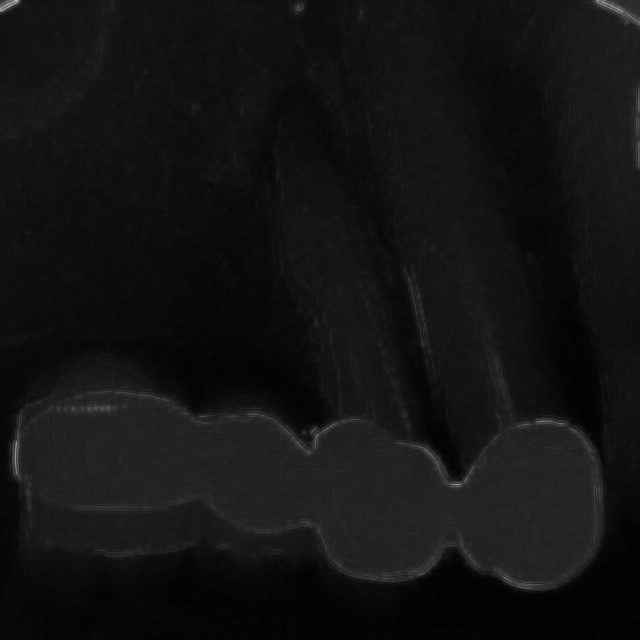Class 1- complete endodontic treatment: (351, 16, 640, 608)
Class 2- incomplete endodontic treatment: (217, 55, 459, 608)
